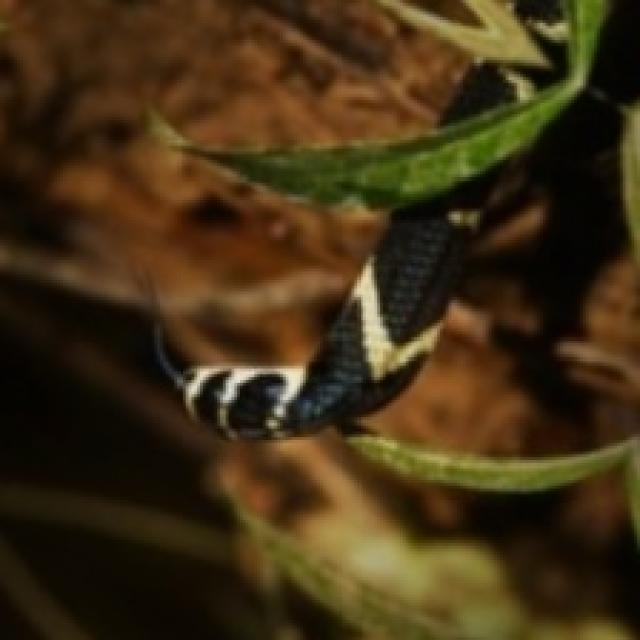king cobra: (151, 0, 589, 434), (360, 89, 637, 451), (289, 103, 543, 197), (534, 0, 600, 103)
